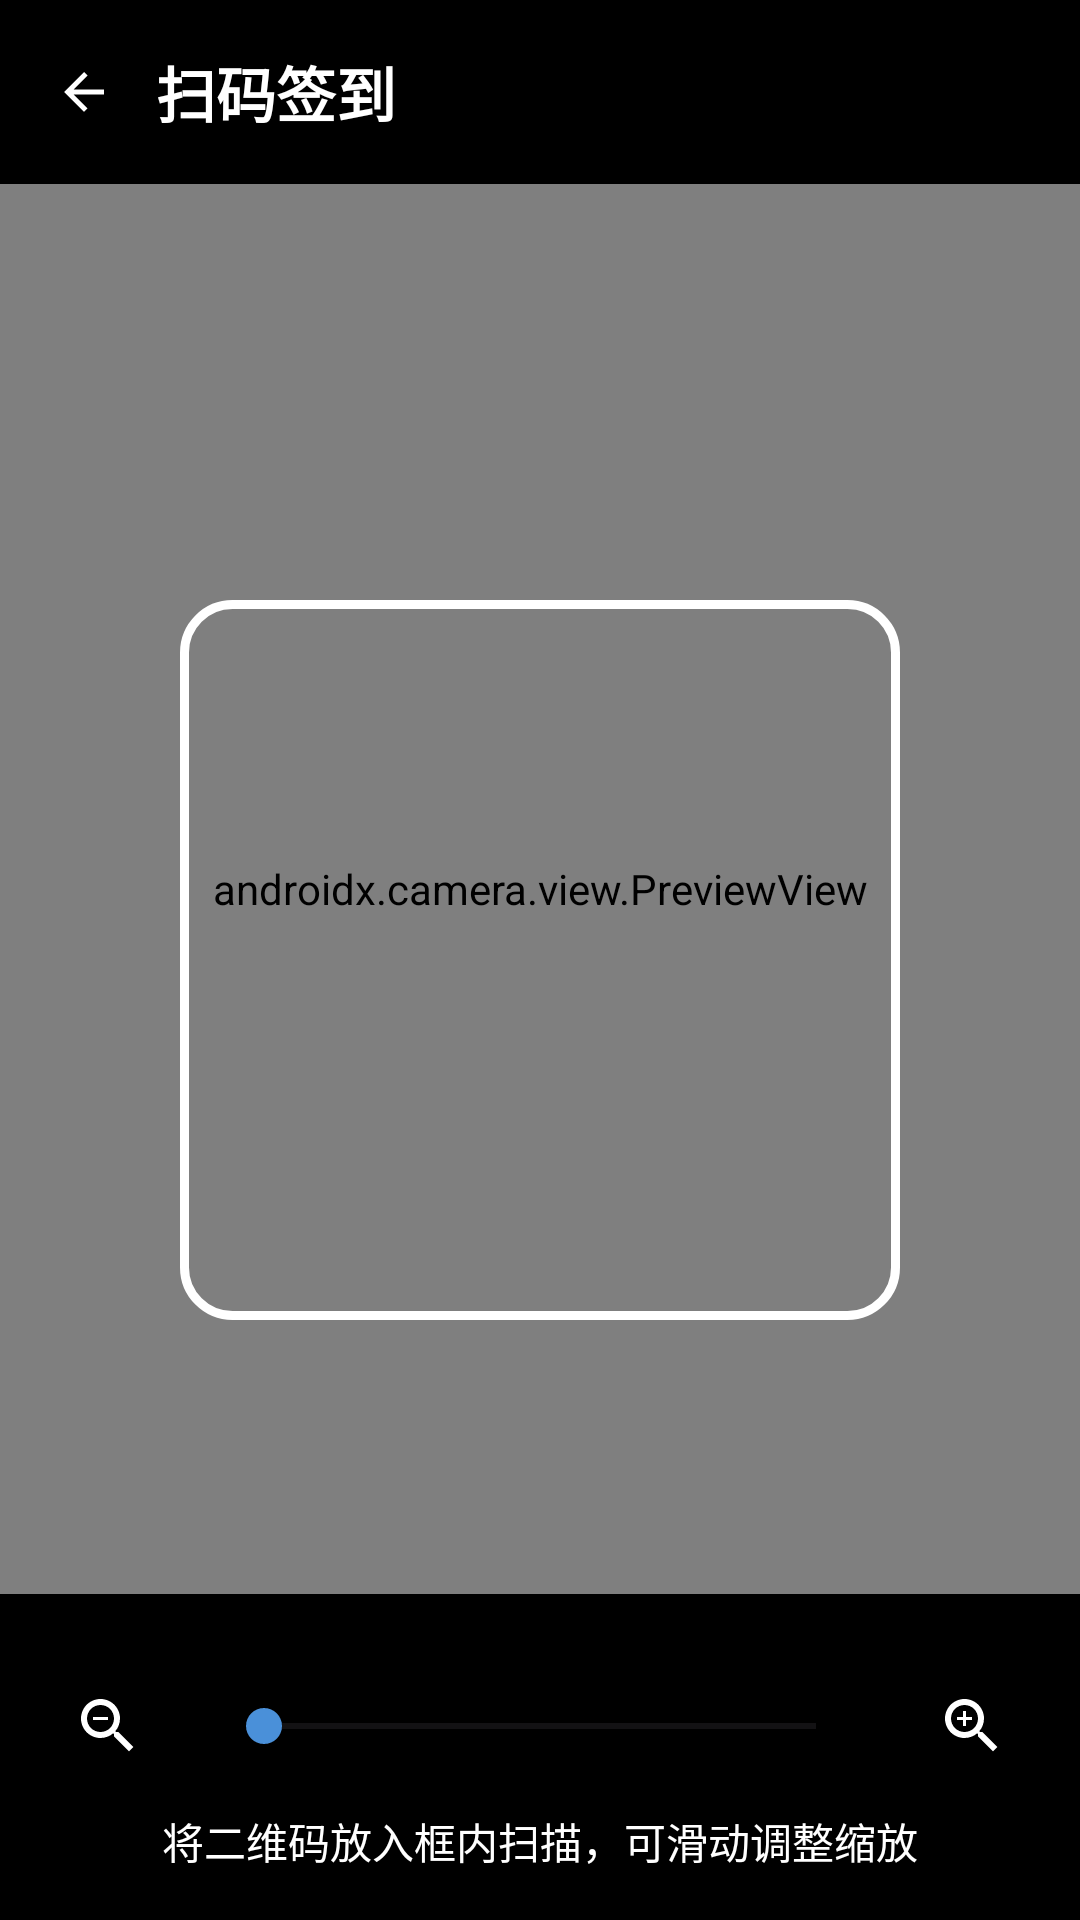

Where icons sit on this 1080px×1920px app screen, as (x1, y1, x2, y2):
back: (64, 72, 104, 112)
zoom in: (945, 1699, 997, 1751)
zoom out: (81, 1699, 133, 1751)
